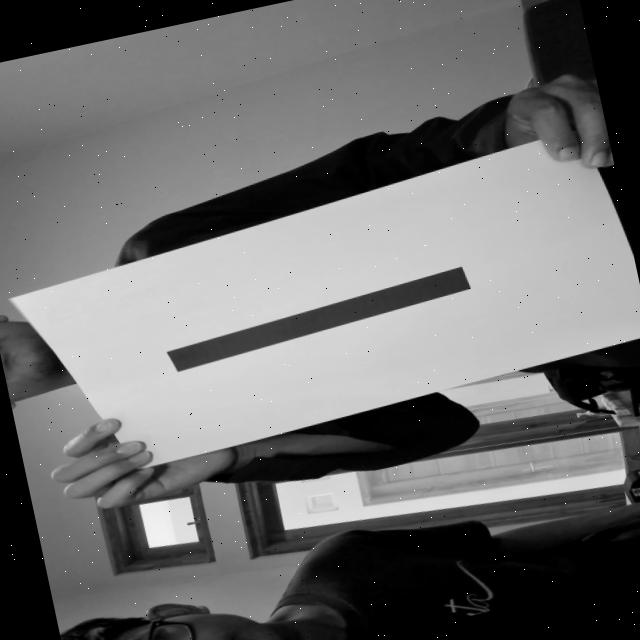i: (150, 252, 492, 380)
